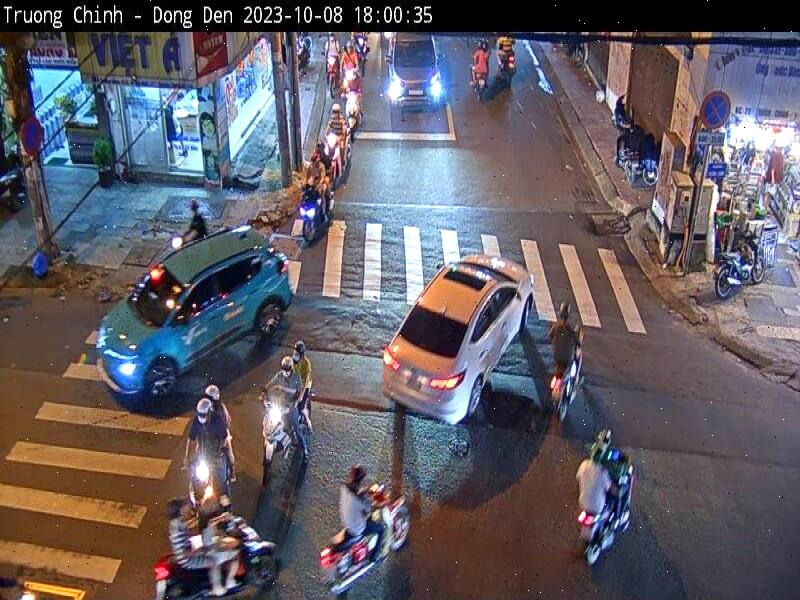car: (96, 224, 294, 402), (383, 255, 535, 425), (387, 31, 446, 113)
motorcycle: (153, 495, 279, 600), (320, 484, 412, 600), (577, 442, 634, 565), (257, 385, 313, 486), (714, 228, 768, 302), (549, 318, 586, 422), (182, 452, 233, 506), (301, 182, 334, 247), (325, 131, 351, 192), (343, 88, 363, 146), (495, 42, 518, 88), (322, 52, 342, 101), (470, 51, 489, 101), (354, 39, 371, 72), (342, 68, 358, 94), (170, 236, 191, 251)
